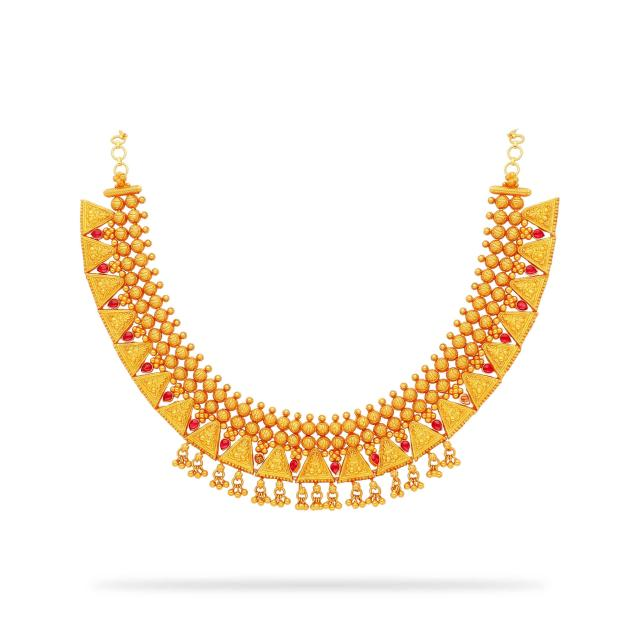missing gem: (459, 394, 470, 404), (255, 453, 264, 465)
